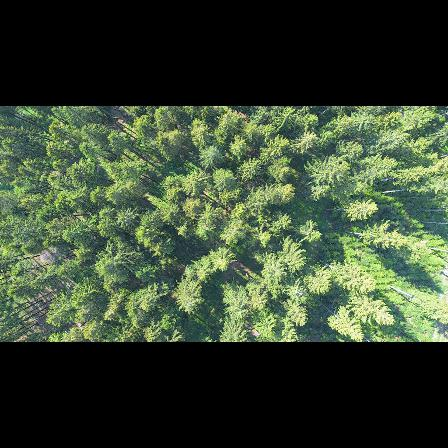Dead: (37, 246, 64, 262)
